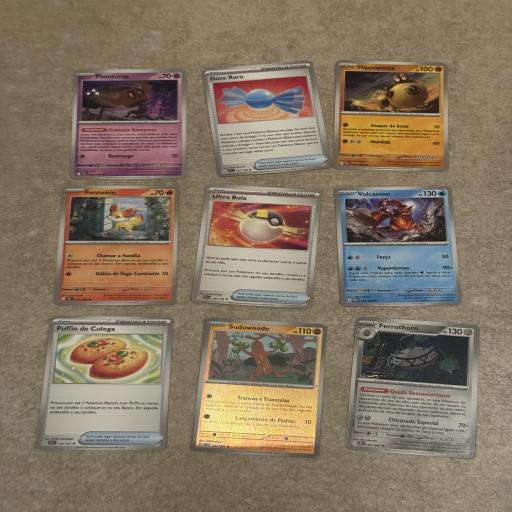card: (346, 316, 486, 459), (190, 317, 328, 458), (36, 316, 174, 450), (190, 181, 322, 310), (202, 59, 334, 179), (334, 186, 462, 307), (53, 185, 179, 306), (334, 60, 451, 172), (70, 69, 187, 179)
